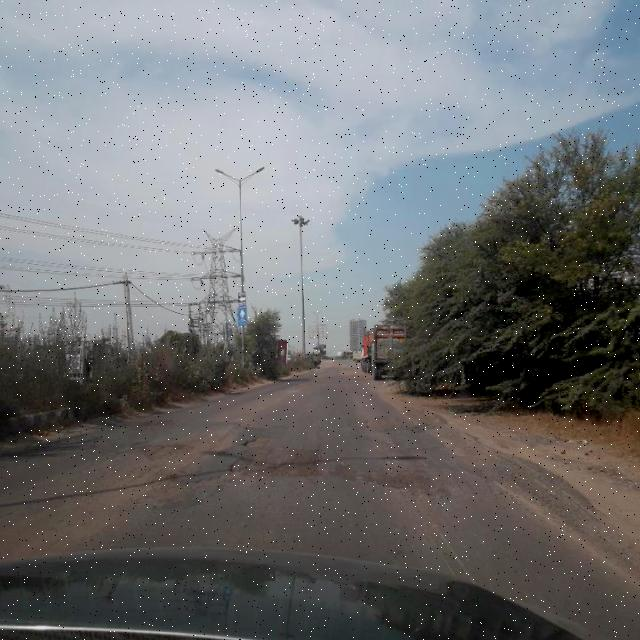D00: (404, 491, 478, 575)
D40: (331, 451, 441, 492), (275, 439, 329, 478), (165, 468, 217, 500), (139, 431, 190, 463), (223, 452, 275, 482), (244, 424, 289, 451), (360, 409, 404, 435)
